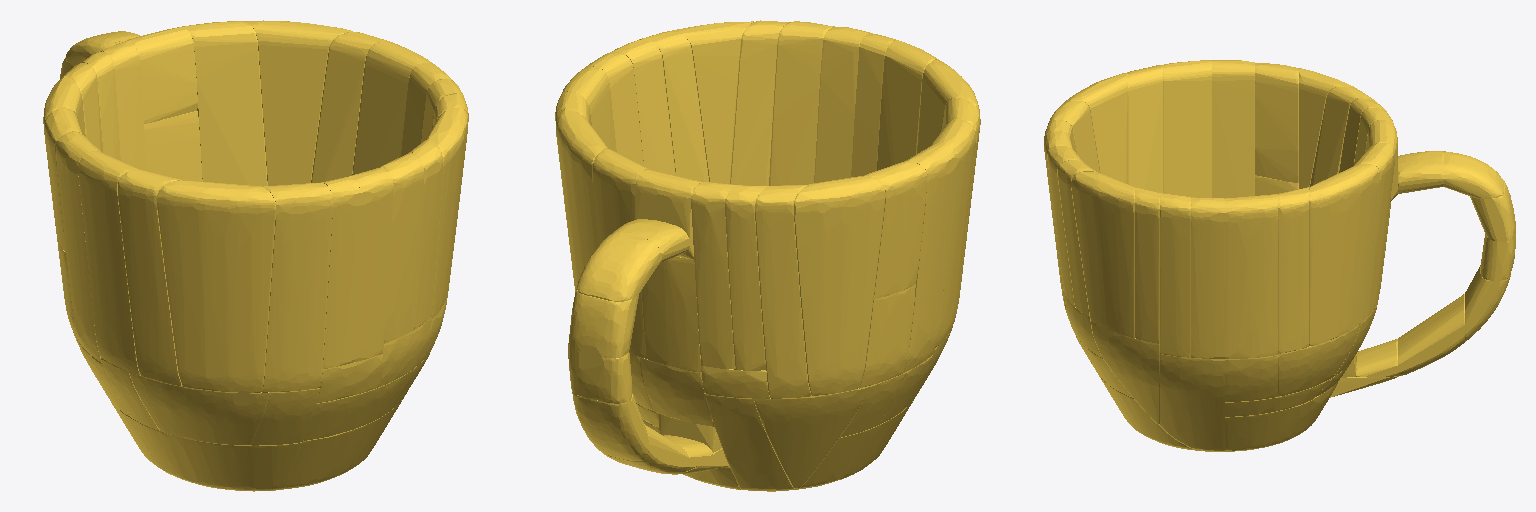
The robot description file, URDF, robot "678.urdf":
<?xml version="1.0" ?>
<robot name="678.urdf">
	<link name="baseLink">
		<inertial>
			<origin rpy="0 0 0" xyz="0 0 0"/>
				<mass value="0.1"/>
				<inertia ixx="6e-5" ixy="0" ixz="0" iyy="6e-5" iyz="0" izz="6e-5"/>
		</inertial>
		<visual>
			<origin rpy="0 0 0" xyz="0 0 0"/>
			<geometry>
				<mesh filename="20_decom_wt.obj" scale="1.00 1.00 0.83"/>
			</geometry>
			<material name="yellow">
				<color rgba="0.98 0.84 0.35 1"/>
			</material>
		</visual>
		<collision>
			<origin rpy="0 0 0" xyz="0 0 0"/>
			<geometry>
				<mesh filename="20_decom_wt.obj" scale="1.00 1.00 0.83"/>
			</geometry>
		</collision>
	</link>
</robot>

--- What the picture shows (computed from the rendered views, not written in the file) ---
The picture shows the robot from 3 angles, left to right: view 1: azimuth 30°, elevation 25°; view 2: azimuth 150°, elevation 25°; view 3: azimuth 270°, elevation 25°; orthographic projection.
Robot: 678.urdf — 1 links, 0 joints (none); root link baseLink; default pose: all joints at 0.
Links seen in each view (by area): view 1: baseLink; view 2: baseLink; view 3: baseLink.
Link boxes in pixels (bbox=[...]): baseLink: bbox=[43, 20, 468, 491]; baseLink: bbox=[555, 20, 980, 491]; baseLink: bbox=[1044, 60, 1515, 451].
Size in the robot's own frame: 0.0859 by 0.1145 by 0.076 metres.
Meshes: 1 distinct files referenced, 1 mesh visuals loaded (1 OBJ).